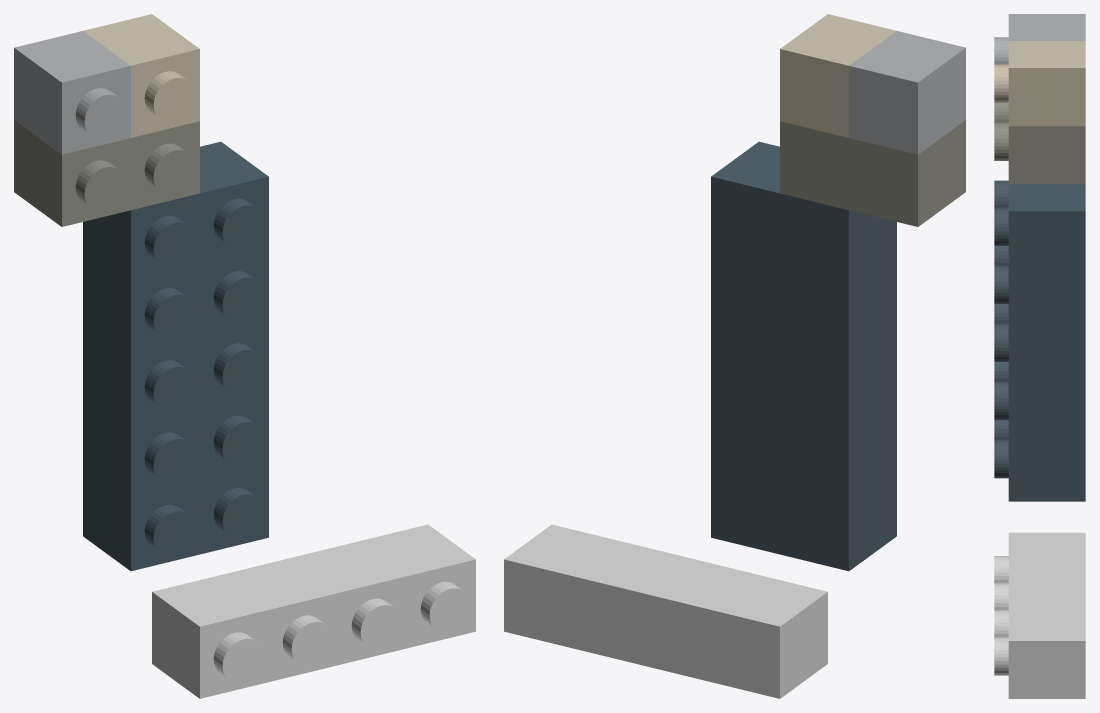
The model's file is current.glb.
3 views of the same model, side by side, from view 1: azimuth 30°, elevation 25°; view 2: azimuth 150°, elevation 25°; view 3: azimuth 270°, elevation 25° (orthographic). The views are drawn at different scales.
Parts seen in each view (by area): view 1: world; view 2: world; view 3: world.
Boxes of the visible parts, x1=… form: world: x1=14, y1=14, x2=475, y2=698; world: x1=504, y1=14, x2=965, y2=698; world: x1=994, y1=14, x2=1085, y2=698.
Size of the model in its own units: 48 by 72 by 11.4.
